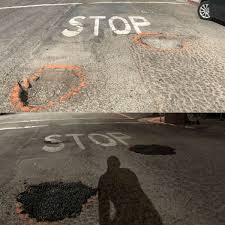pothole: (12, 174, 96, 221), (12, 59, 88, 110), (131, 31, 196, 66)
